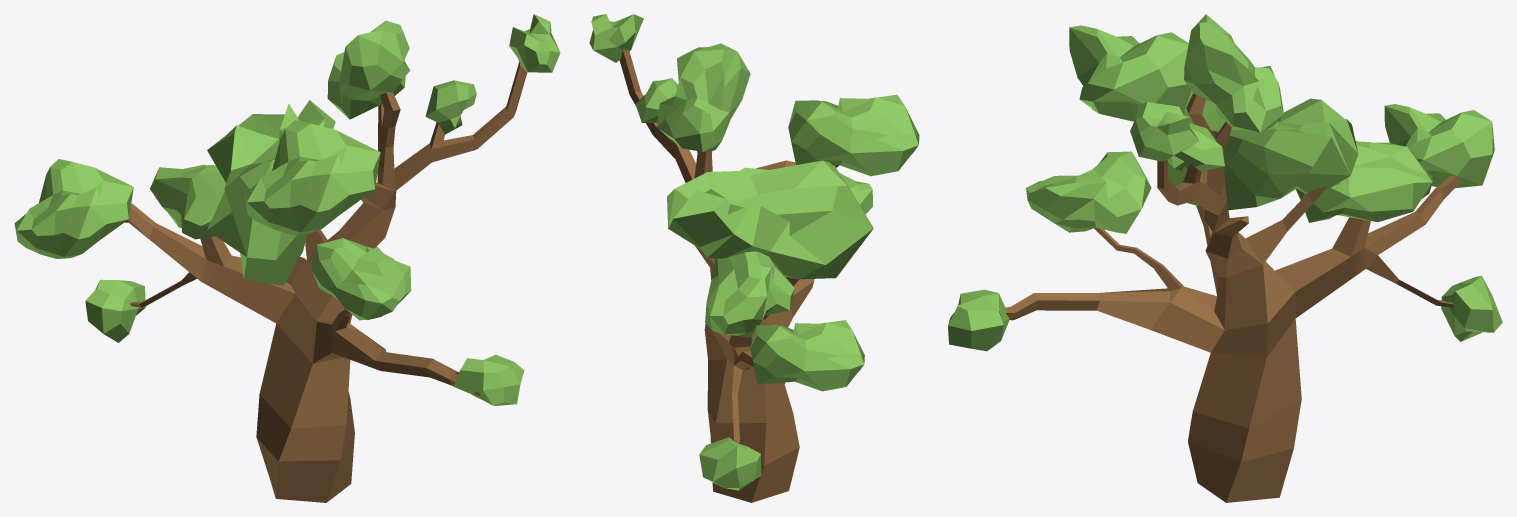
The model's file is ceiba_leaves_export1.fbx.
3 views of the same model, side by side, from view 1: azimuth 30°, elevation 25°; view 2: azimuth 150°, elevation 25°; view 3: azimuth 270°, elevation 25° (orthographic). The views are drawn at different scales.
Parts seen in each view (by area): view 1: tree_trunk, pPlatonic2, pPlatonic10, pPlatonic9, pPlatonic12, pPlatonic4, pPlatonic13, pPlatonic11, pPlatonic6, pPlatonic7, pPlatonic8; view 2: pPlatonic10, tree_trunk, pPlatonic2, pPlatonic4, pPlatonic9, pPlatonic13, pPlatonic11, pPlatonic7, pPlatonic8, pPlatonic12; view 3: tree_trunk, pPlatonic10, pPlatonic2, pPlatonic4, pPlatonic12, pPlatonic13, pPlatonic9, pPlatonic7, pPlatonic6, pPlatonic11, pPlatonic8.
Part boxes in pixels (bbox=[...]): tree_trunk: bbox=[124, 61, 527, 502]; pPlatonic2: bbox=[244, 120, 380, 234]; pPlatonic10: bbox=[207, 100, 335, 285]; pPlatonic9: bbox=[14, 159, 133, 258]; pPlatonic12: bbox=[312, 238, 411, 320]; pPlatonic4: bbox=[327, 20, 410, 119]; pPlatonic13: bbox=[150, 164, 225, 239]; pPlatonic11: bbox=[85, 279, 145, 342]; pPlatonic6: bbox=[453, 354, 524, 405]; pPlatonic7: bbox=[509, 14, 560, 72]; pPlatonic8: bbox=[425, 80, 476, 134]; pPlatonic10: bbox=[667, 160, 873, 279]; tree_trunk: bbox=[619, 50, 839, 502]; pPlatonic2: bbox=[788, 94, 919, 176]; pPlatonic4: bbox=[657, 43, 750, 151]; pPlatonic9: bbox=[750, 320, 864, 391]; pPlatonic13: bbox=[705, 251, 794, 337]; pPlatonic11: bbox=[699, 437, 761, 490]; pPlatonic7: bbox=[589, 14, 643, 62]; pPlatonic8: bbox=[635, 78, 677, 122]; pPlatonic12: bbox=[840, 173, 872, 214]; tree_trunk: bbox=[1005, 93, 1461, 502]; pPlatonic10: bbox=[1167, 90, 1358, 210]; pPlatonic2: bbox=[1069, 25, 1190, 121]; pPlatonic4: bbox=[1184, 14, 1283, 132]; pPlatonic12: bbox=[1026, 151, 1151, 233]; pPlatonic13: bbox=[1296, 141, 1432, 222]; pPlatonic9: bbox=[1384, 104, 1494, 188]; pPlatonic7: bbox=[1130, 102, 1199, 161]; pPlatonic6: bbox=[948, 289, 1009, 351]; pPlatonic11: bbox=[1441, 275, 1502, 341]; pPlatonic8: bbox=[1167, 123, 1224, 171].
Size of the model in its own units: 4.78 by 5 by 5.13.
